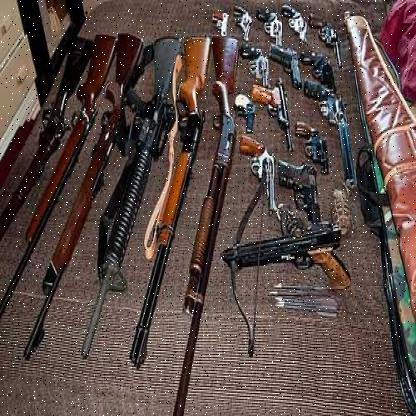rifle: (19, 36, 152, 364), (78, 35, 192, 379), (129, 10, 218, 383), (3, 36, 118, 319), (173, 28, 252, 415), (221, 174, 357, 356), (0, 28, 100, 236)
